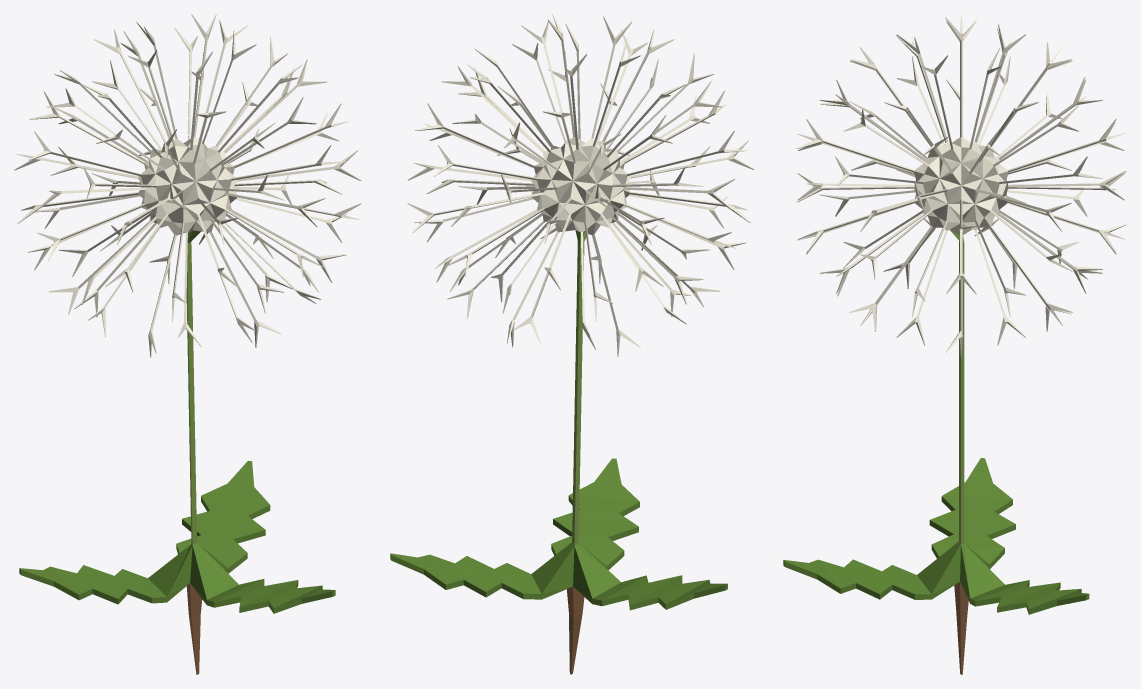
Rendered from NEW_RECOVERY_131_LOD1.glb.
The picture shows the model from 3 angles, left to right: view 1: azimuth 30°, elevation 25°; view 2: azimuth 150°, elevation 25°; view 3: azimuth 270°, elevation 25°; orthographic projection.
Visible parts, largest first — view 1: Dandelion; view 2: Dandelion; view 3: Dandelion.
Boxes of the visible parts, <box> form: Dandelion: <box>14,14,361,674</box>; Dandelion: <box>390,14,754,674</box>; Dandelion: <box>783,14,1126,674</box>.
Bounding box in the file's own units: 0.8107 × 1.61 × 0.7917.
